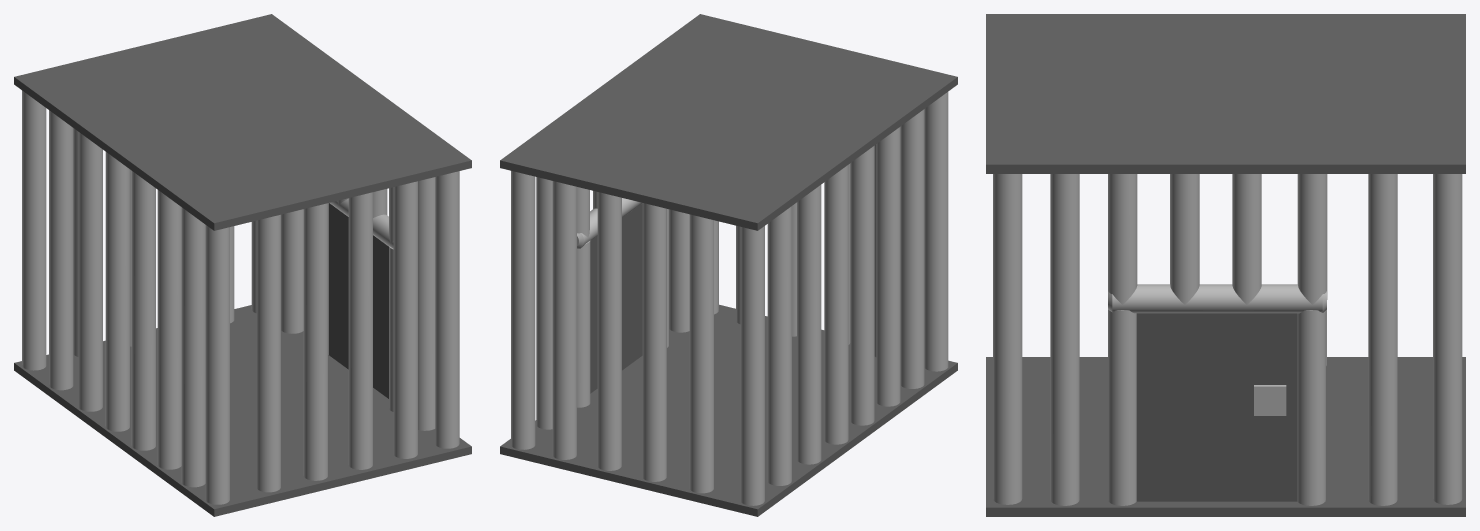
The model's file is Cage (update).fbx.
3 views of the same model, side by side, from view 1: azimuth 30°, elevation 25°; view 2: azimuth 150°, elevation 25°; view 3: azimuth 270°, elevation 25° (orthographic). The views are drawn at different scales.
Parts seen in each view (by area): view 1: Cage; view 2: Cage; view 3: Cage.
Part boxes in pixels (bbox=[...]): Cage: bbox=[14, 14, 471, 516]; Cage: bbox=[500, 14, 957, 516]; Cage: bbox=[986, 14, 1465, 516].
Size of the model in its own units: 228 by 249 by 307.
